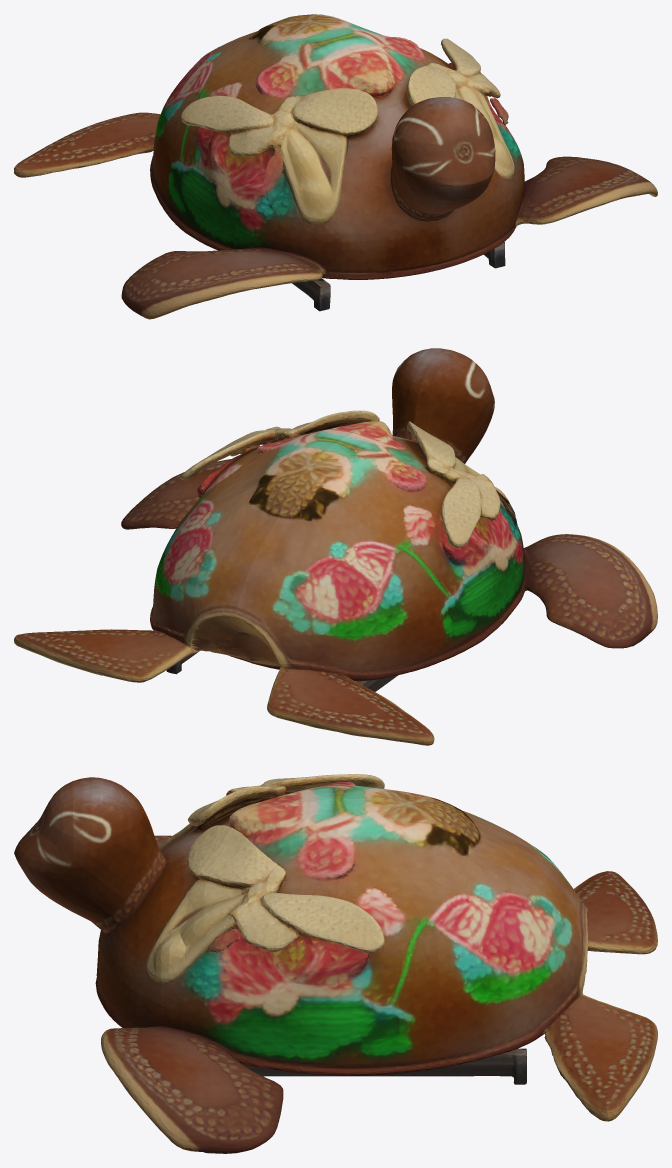
Rendered from decorative-turtle.glb.
3 renders of one model, top to bottom at view 1: azimuth 30°, elevation 25°; view 2: azimuth 150°, elevation 25°; view 3: azimuth 270°, elevation 25°, orthographic. The views are drawn at different scales.
Parts seen in each view (by area): view 1: geometry_0; view 2: geometry_0; view 3: geometry_0.
Part boxes in pixels (x1,y1,x2,y2): geometry_0: [14, 14, 657, 319]; geometry_0: [14, 348, 657, 745]; geometry_0: [14, 774, 657, 1153].
Size of the model in its own units: 0.5 by 0.1946 by 0.4594.
Materials: 1 (1 with a texture image).
